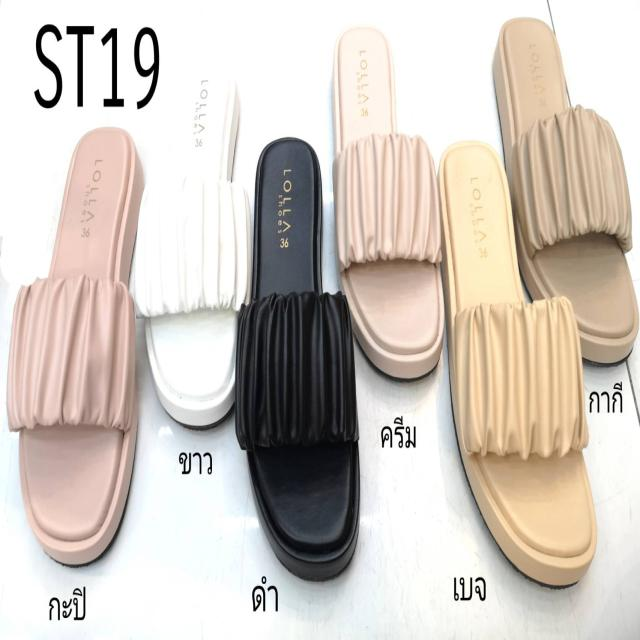bej: (444, 146, 595, 582)
black: (246, 135, 356, 568)
cream: (336, 31, 442, 372)
kakee: (500, 32, 638, 359)
kapi: (19, 128, 133, 556)
white: (141, 72, 245, 424)
